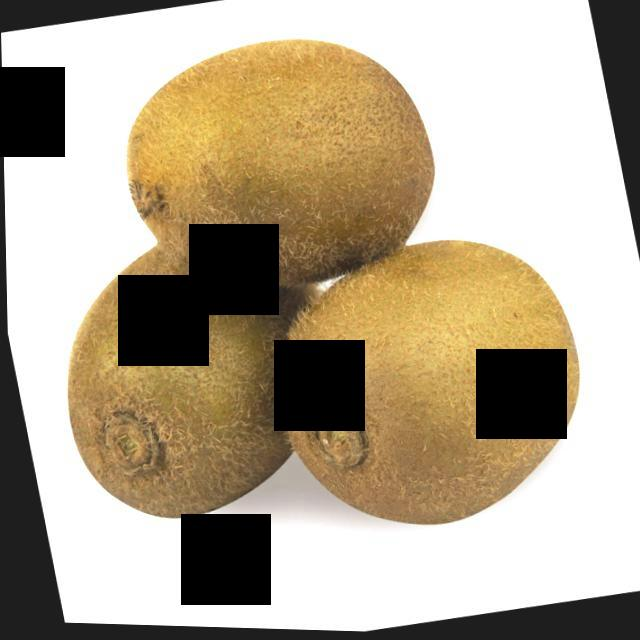kiwi: (253, 218, 613, 555), (33, 209, 373, 544), (101, 12, 458, 322)
